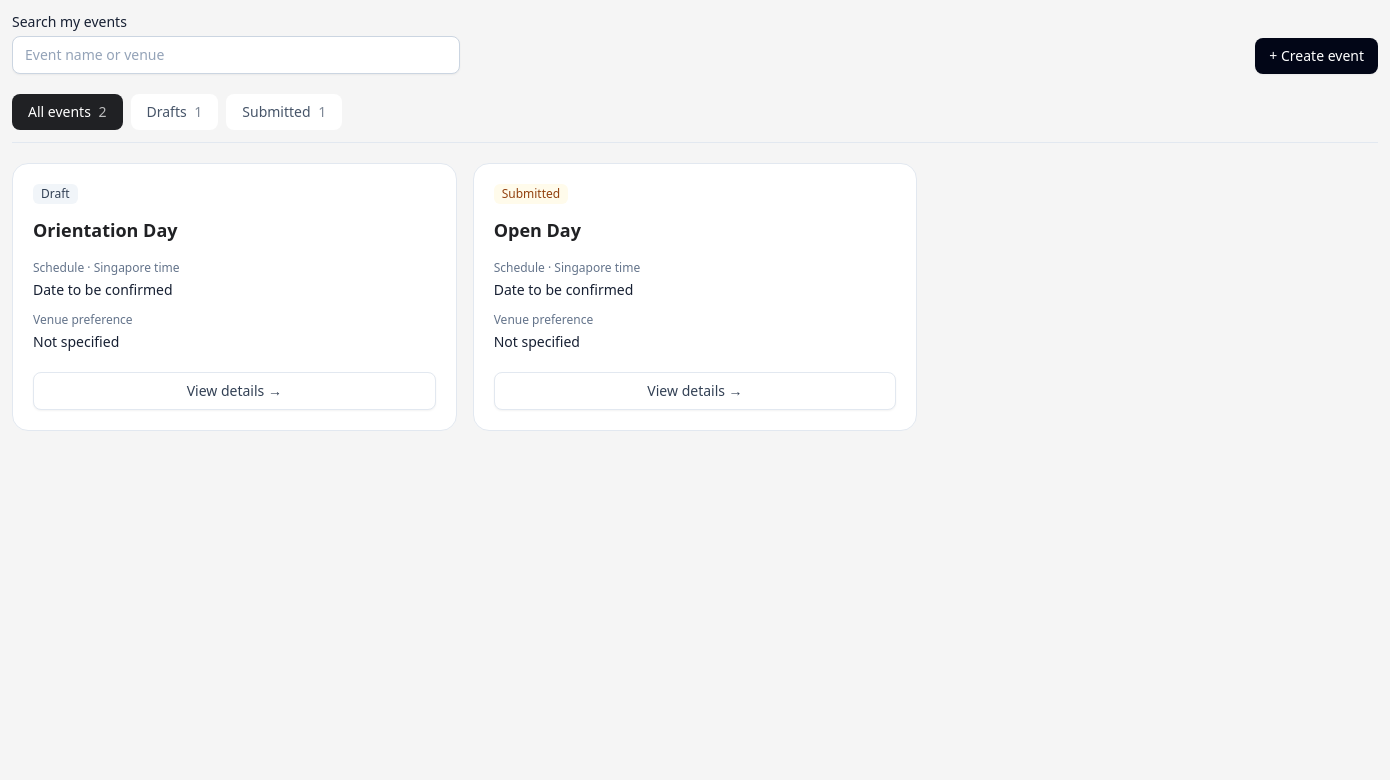
Test: lists compact summaries and shows permitted actions only inside details
Expected: the heading "Orientation Day" is shown, left=33, top=218, right=178, bottom=242
Expected: the heading "Open Day" is shown, left=494, top=218, right=581, bottom=242
Click the button with aria-label "View details for Orientation Day": (234, 391) left=33, top=372, right=436, bottom=410
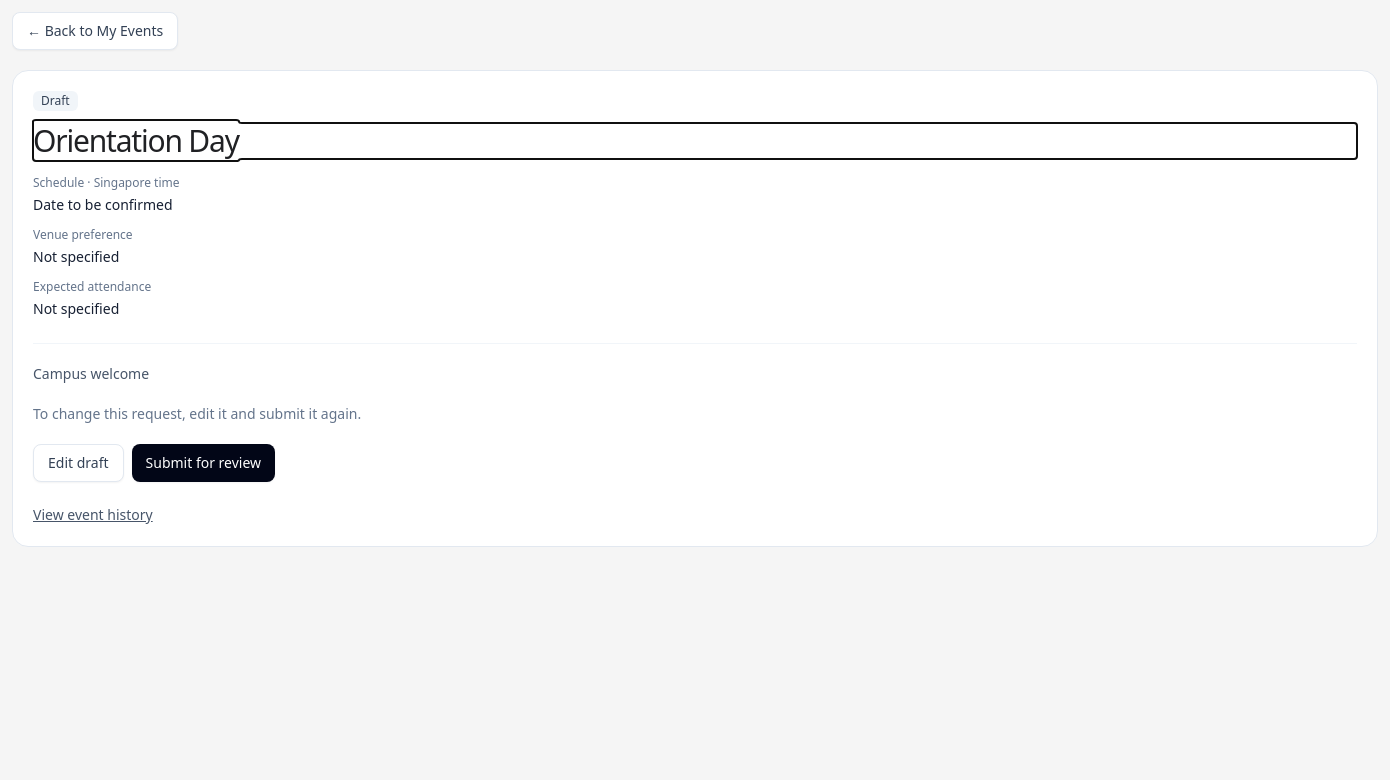
Expected: the button "Submit for review" is shown, left=132, top=444, right=275, bottom=482
Expected: the button "Edit draft" is shown, left=33, top=444, right=124, bottom=482
Click the button "← Back to My Events": (95, 31) left=12, top=12, right=178, bottom=50
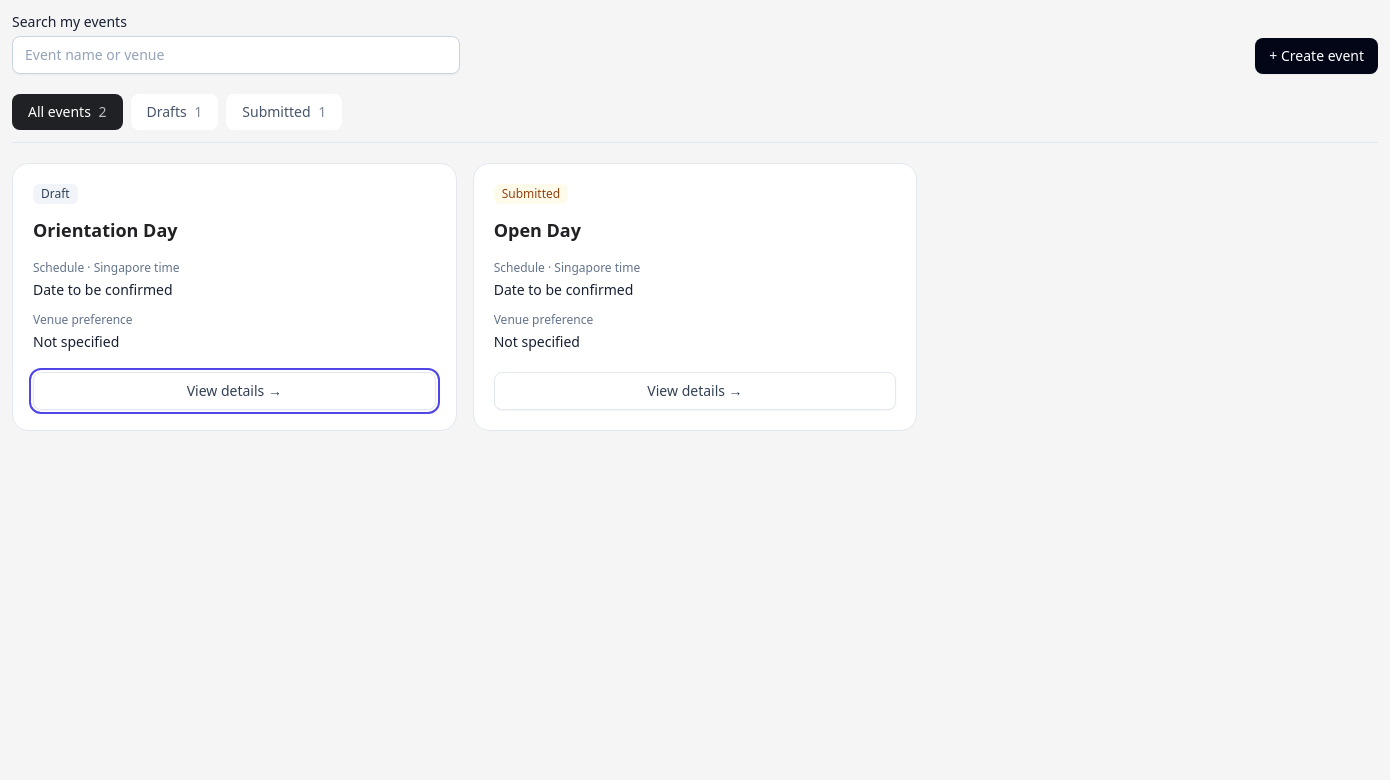
Click the button "View details →" below "Open Day": (695, 391) left=494, top=372, right=896, bottom=410
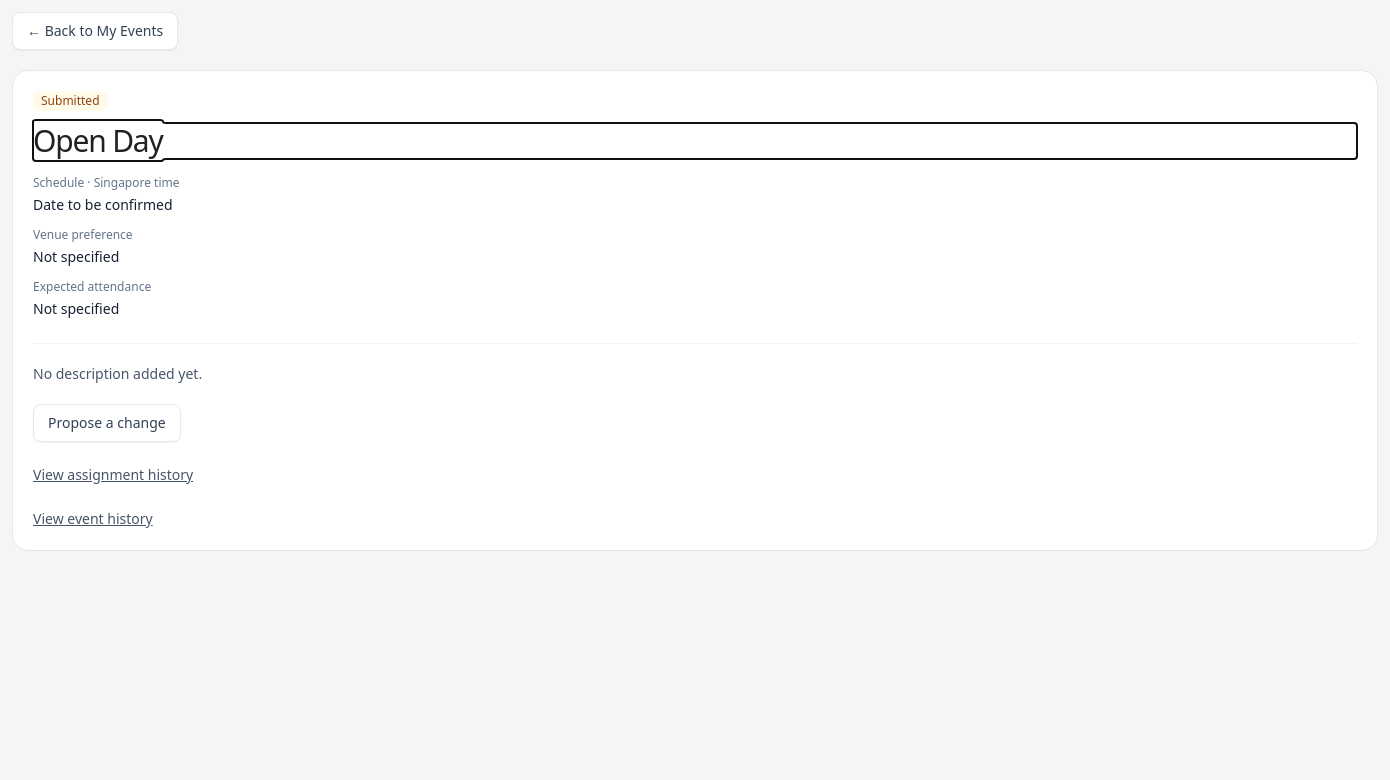
Expected: the button "Edit draft" is not shown
Expected: the button "Propose a change" is shown, left=33, top=404, right=181, bottom=442
